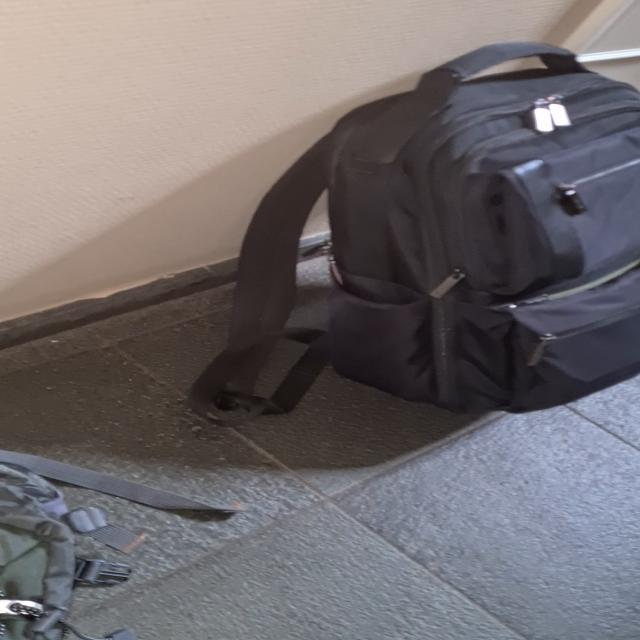backpack: (253, 36, 640, 418)
